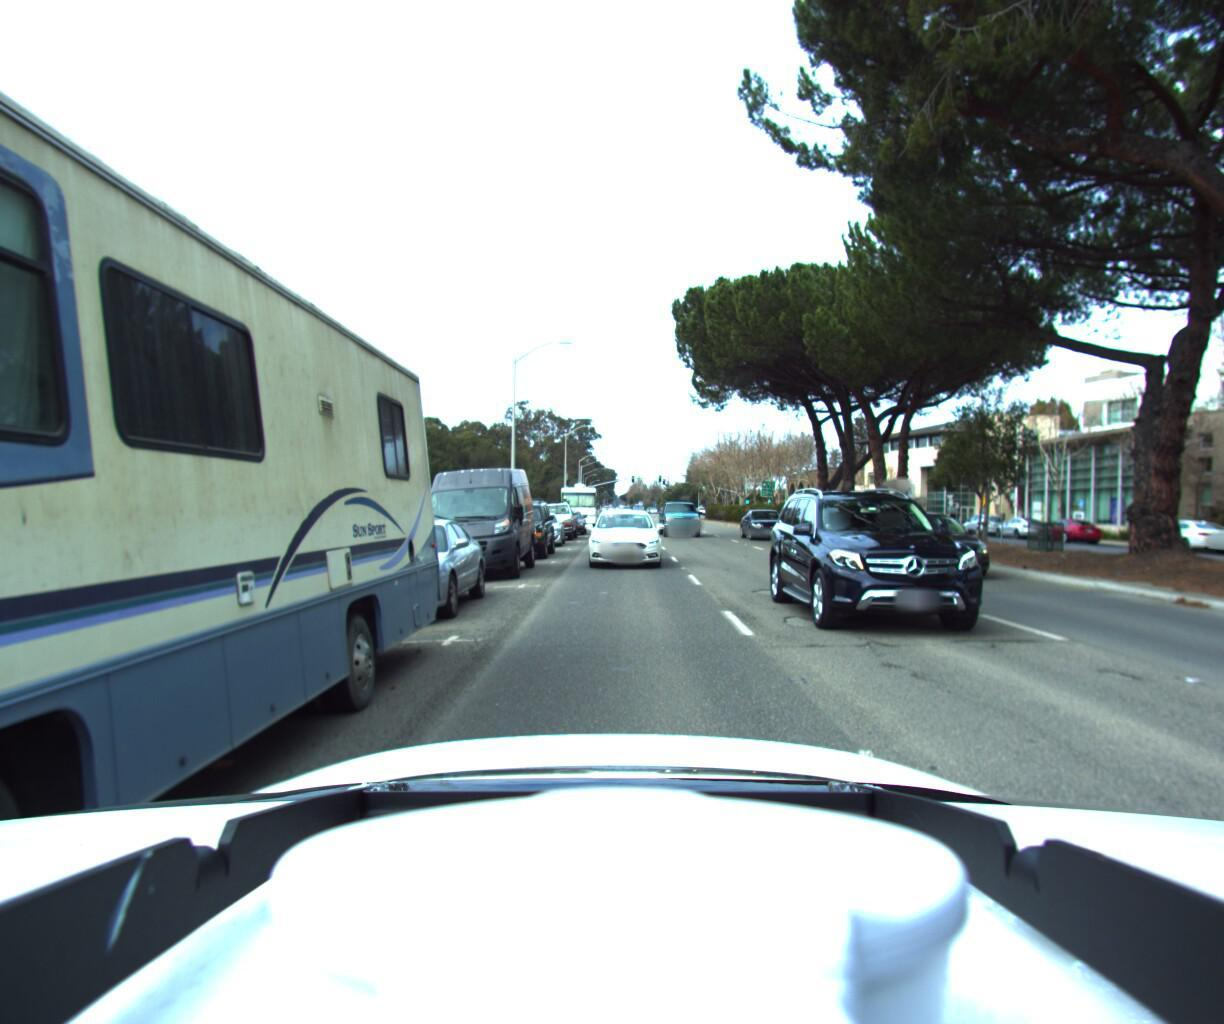car: (773, 477, 1038, 666), (296, 515, 487, 639), (405, 458, 533, 589), (871, 511, 1032, 589), (475, 496, 554, 564), (582, 507, 657, 570), (1135, 517, 1224, 554), (526, 497, 577, 543), (1032, 516, 1106, 544), (510, 513, 564, 550), (738, 507, 792, 542), (658, 498, 703, 539), (991, 515, 1052, 541), (956, 513, 1008, 537), (551, 509, 587, 537)
other_vehicle: (0, 0, 444, 1024), (557, 480, 597, 529)
